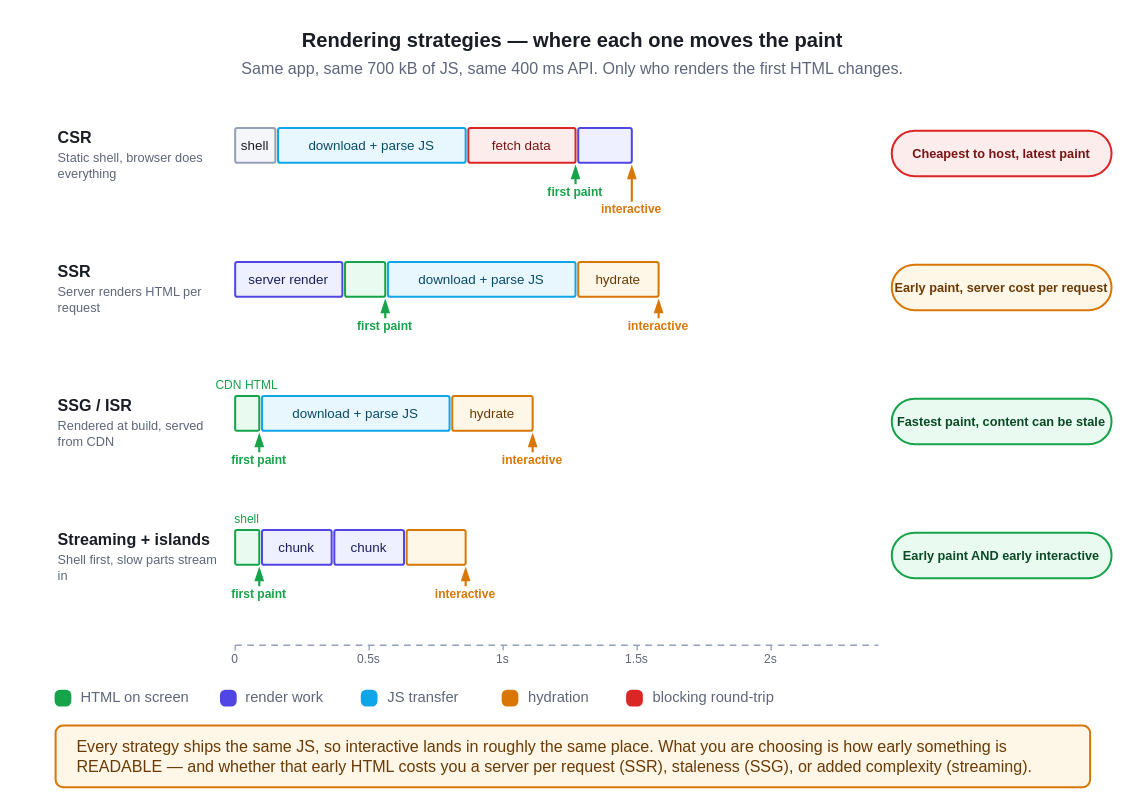
Some shapes in this 1144 by 811 pixel diagram are drawn without their labels. The centre of each missing label's shape, as x and y in pixels:
HTML: (364,278)
islands: (435,546)
render: (604,144)
